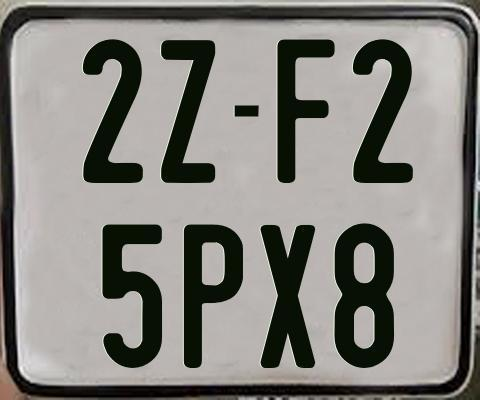2: (83, 37, 144, 185), (353, 36, 413, 183)
5: (99, 224, 163, 372)
8: (331, 221, 391, 368)
F: (277, 37, 339, 184)
P: (181, 223, 242, 373)
X: (259, 222, 315, 365)
Z: (159, 37, 213, 183)
